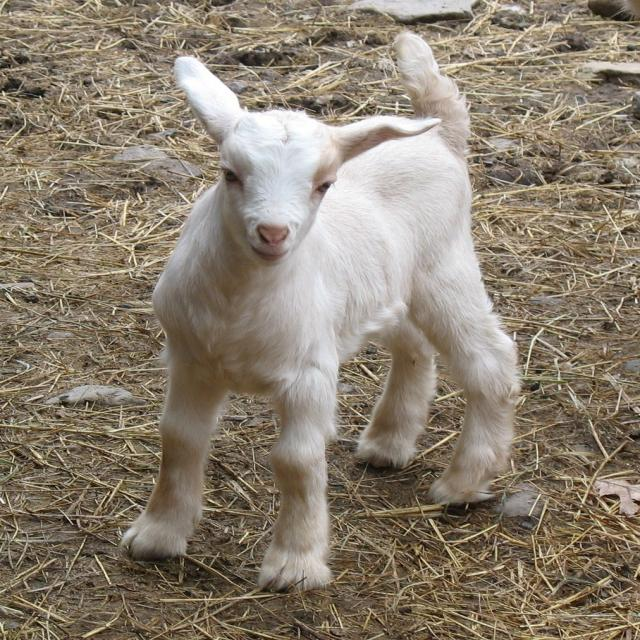Goat: (121, 29, 514, 581)
